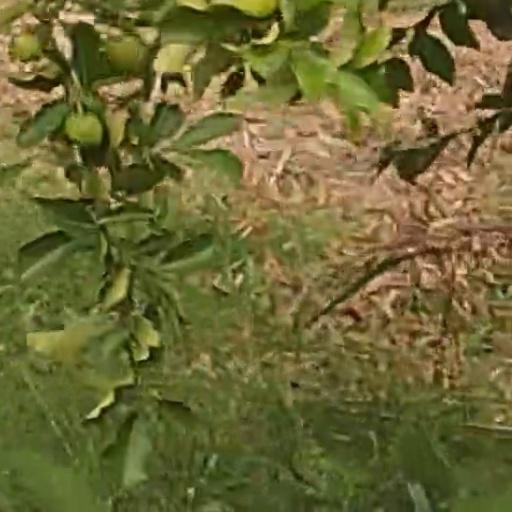acerola_verde: (104, 34, 147, 76), (66, 119, 102, 146)
